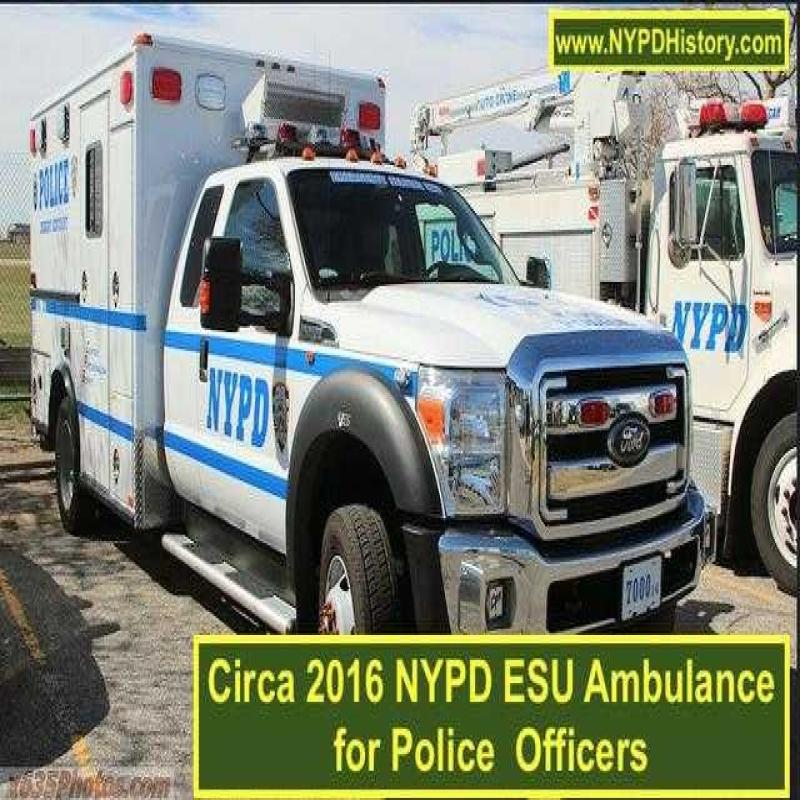AmbulanceSiren: (248, 105, 436, 180)
